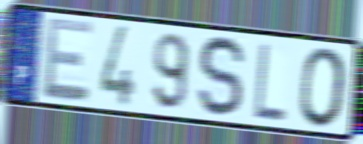4: (97, 23, 138, 110)
9: (151, 31, 191, 112)
E: (42, 14, 96, 104)
L: (252, 40, 287, 125)
O: (299, 45, 349, 130)
S: (197, 33, 247, 120)
